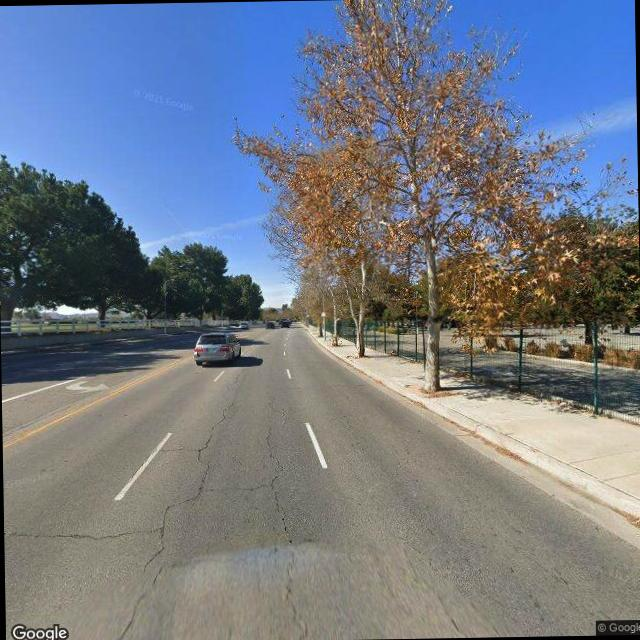crack: (146, 458, 210, 562), (258, 412, 292, 544), (4, 518, 158, 546), (192, 396, 234, 462), (154, 441, 196, 453)
